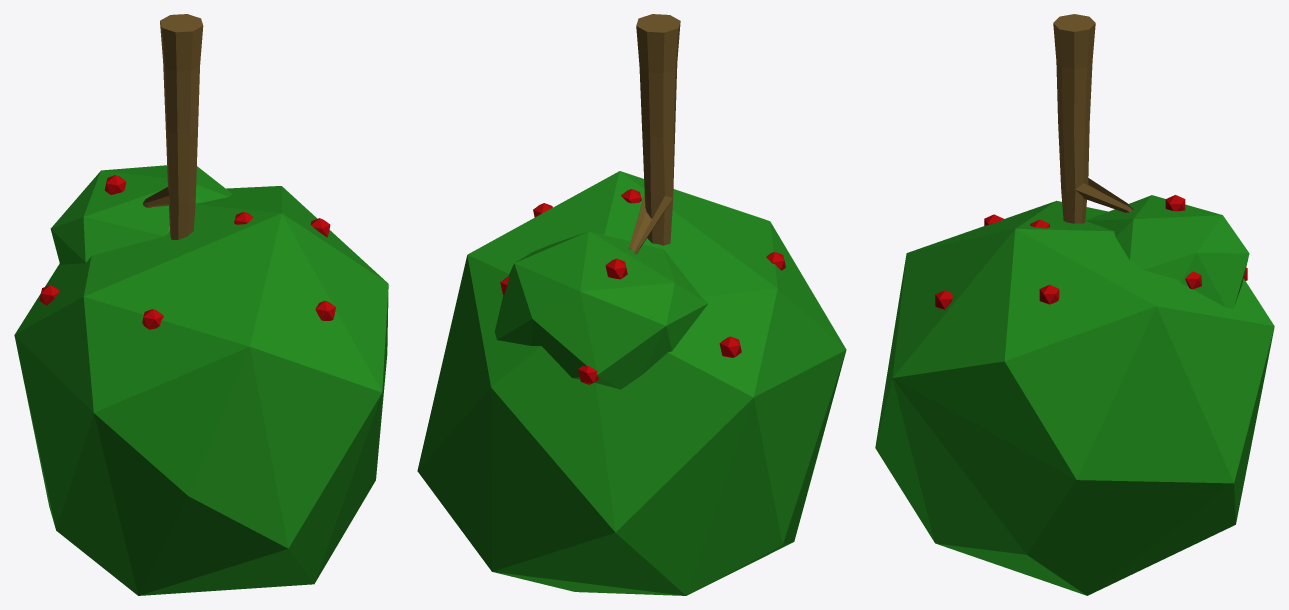
The model's file is AppleTree.fbx.
The picture shows the model from 3 angles, left to right: view 1: azimuth 30°, elevation 25°; view 2: azimuth 150°, elevation 25°; view 3: azimuth 270°, elevation 25°; orthographic projection. The views are drawn at different scales.
Parts seen in each view (by area): view 1: Icosphere.005; view 2: Icosphere.005; view 3: Icosphere.005.
Boxes of the visible parts, bbox=[...] form: Icosphere.005: bbox=[14, 14, 388, 595]; Icosphere.005: bbox=[417, 14, 846, 595]; Icosphere.005: bbox=[875, 14, 1274, 595].
Bounding box in the file's own units: 1760 × 2794 × 1878.
